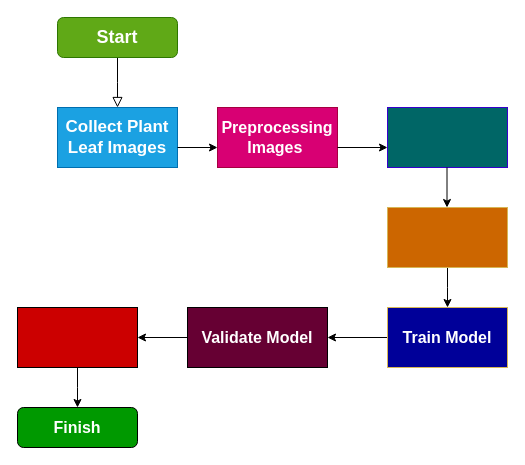
Image size: 525x465. Some labels were removed from this diagram. Each missing label, with the centre of its shape:
"Load Pretrained ResNet Model" goes at [447,237].
"Split Dataset" goes at [447,137].
"Test Model" goes at [77,337].
